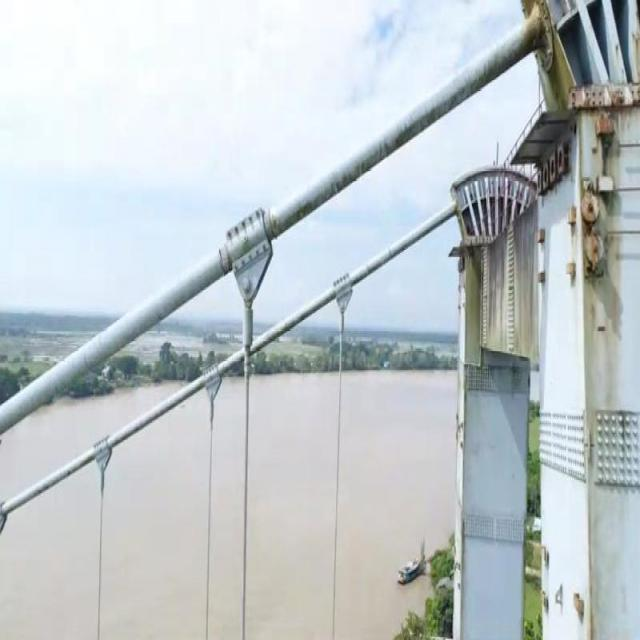Slippage: (264, 208, 276, 242), (219, 246, 233, 275)
